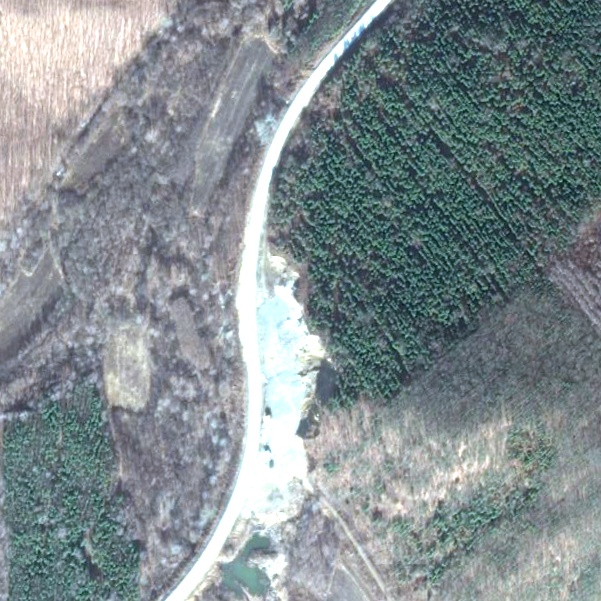slope: (221, 250, 338, 597)
